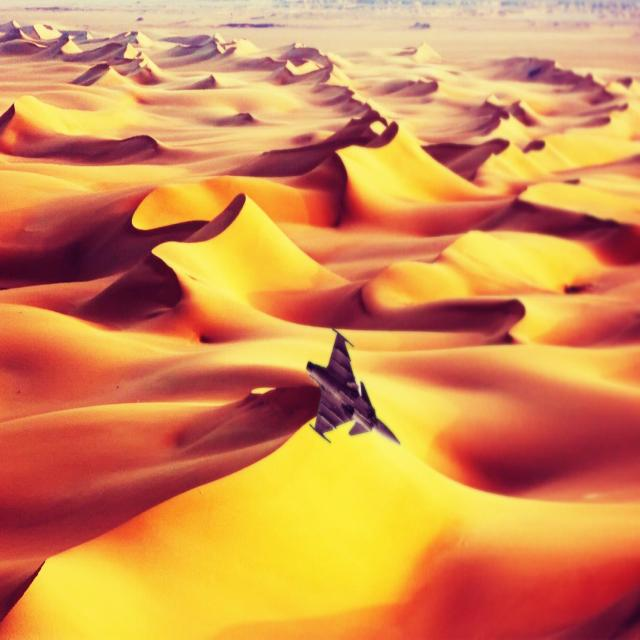airplane: (306, 326, 400, 446)
